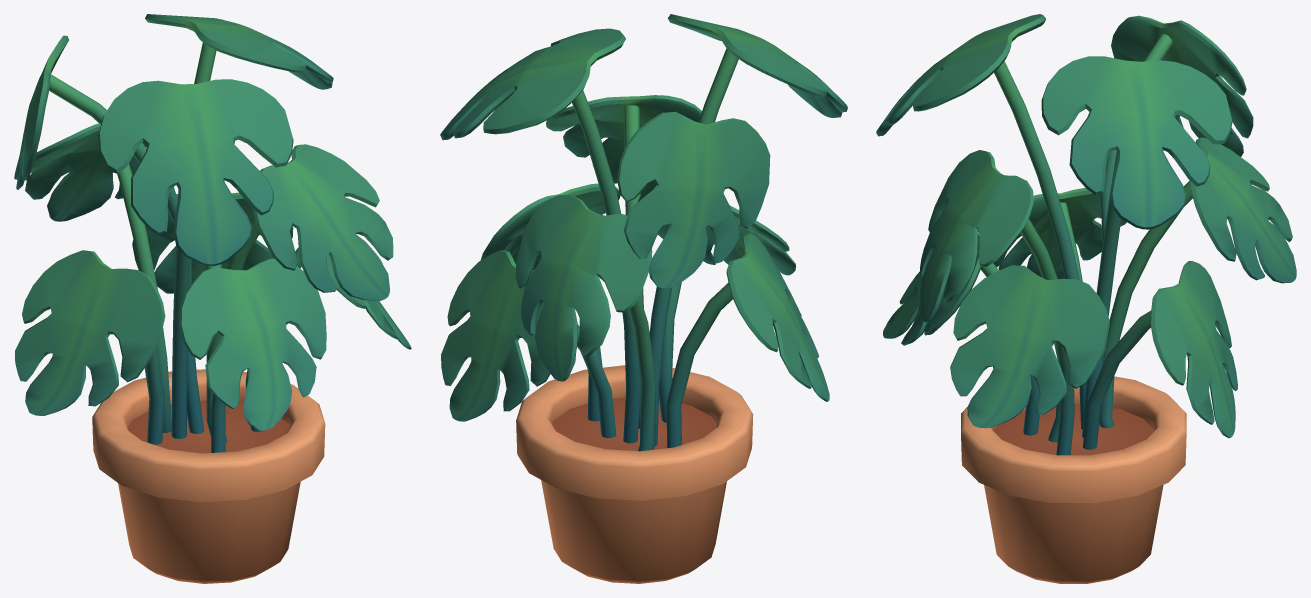
File: monstera.glb
3 views of the same model, side by side, from view 1: azimuth 30°, elevation 25°; view 2: azimuth 150°, elevation 25°; view 3: azimuth 270°, elevation 25° (orthographic). The views are drawn at different scales.
Parts seen in each view (by area): view 1: monstera_plant_large_potted; view 2: monstera_plant_large_potted; view 3: monstera_plant_large_potted.
Part boxes in pixels (left/top/right/bottom): monstera_plant_large_potted: left=14, top=14, right=411, bottom=583; monstera_plant_large_potted: left=440, top=14, right=847, bottom=583; monstera_plant_large_potted: left=876, top=14, right=1296, bottom=583.
Size of the model in its own units: 2.59 by 3.68 by 2.79.
1 material, 1 textured.
